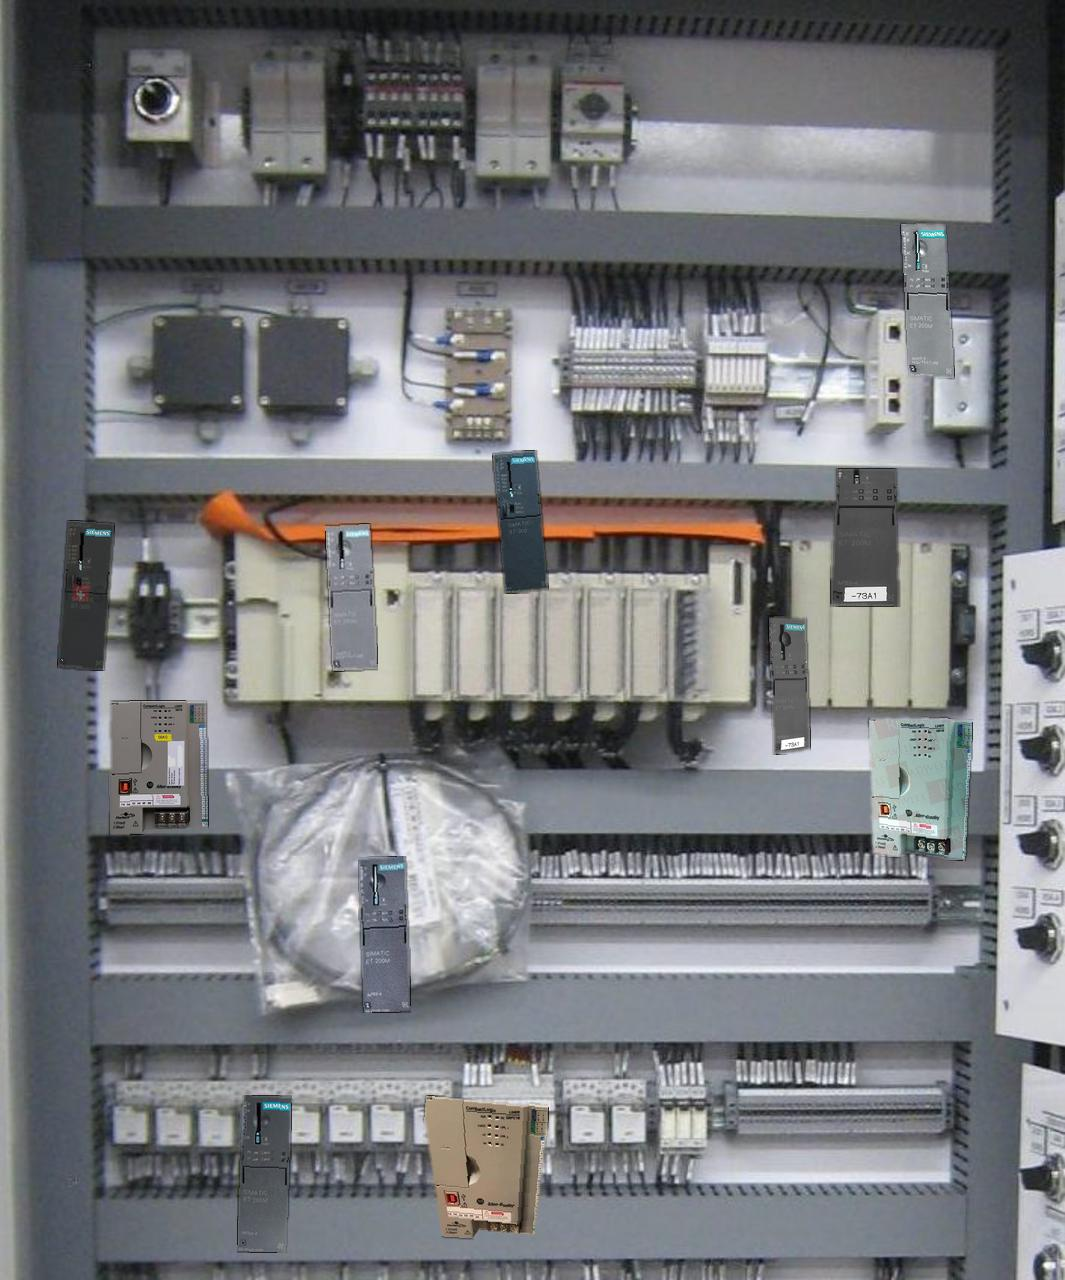AllenBradley: (424, 1096, 548, 1237), (869, 718, 973, 860), (109, 701, 207, 833)
Siemens: (58, 521, 113, 669), (493, 450, 547, 593)
